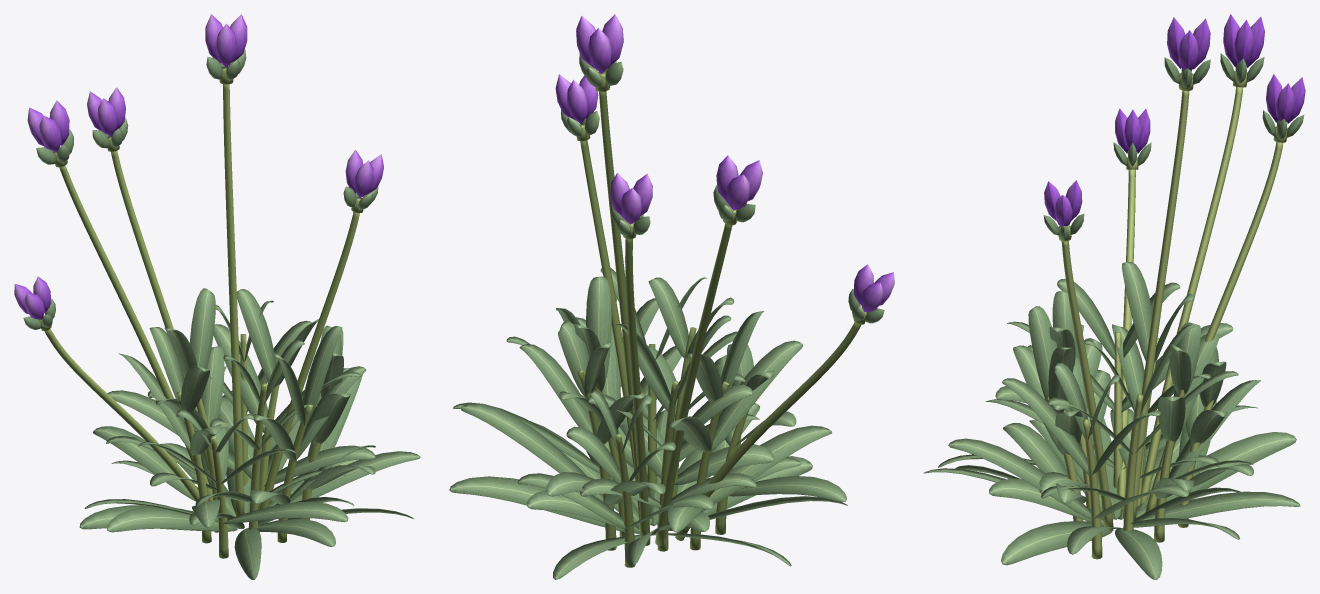
The model's file is NP_Lavender_BudForming.fbx.
3 views of the same model, side by side, from view 1: azimuth 30°, elevation 25°; view 2: azimuth 150°, elevation 25°; view 3: azimuth 270°, elevation 25° (orthographic). The views are drawn at different scales.
Visible parts, largest first — view 1: NP_Lavender_BudForming; view 2: NP_Lavender_BudForming; view 3: NP_Lavender_BudForming.
Boxes of the visible parts, x1,y1,x2,y2 form: NP_Lavender_BudForming: (14,14,420,579); NP_Lavender_BudForming: (449,14,894,579); NP_Lavender_BudForming: (923,14,1305,579).
Bounding box in the file's own units: 59.21 × 74.06 × 49.52.
1 material, 1 textured.
